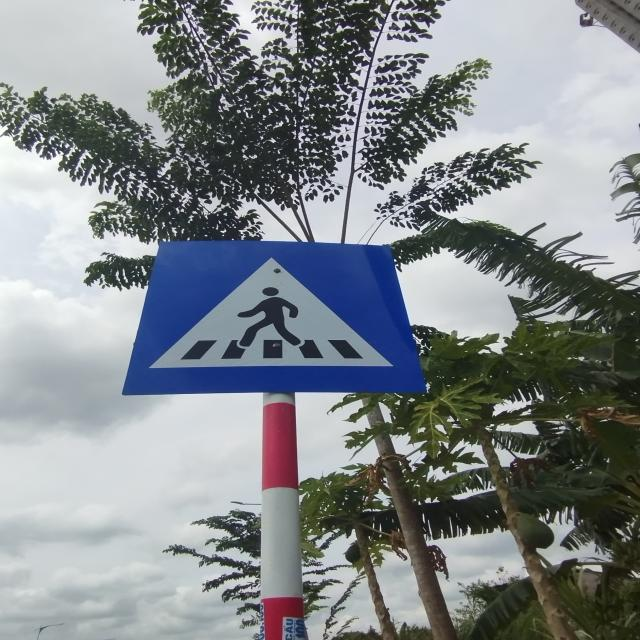Giao_Nhau_Duong_Uu_Tien: (122, 240, 425, 392)
